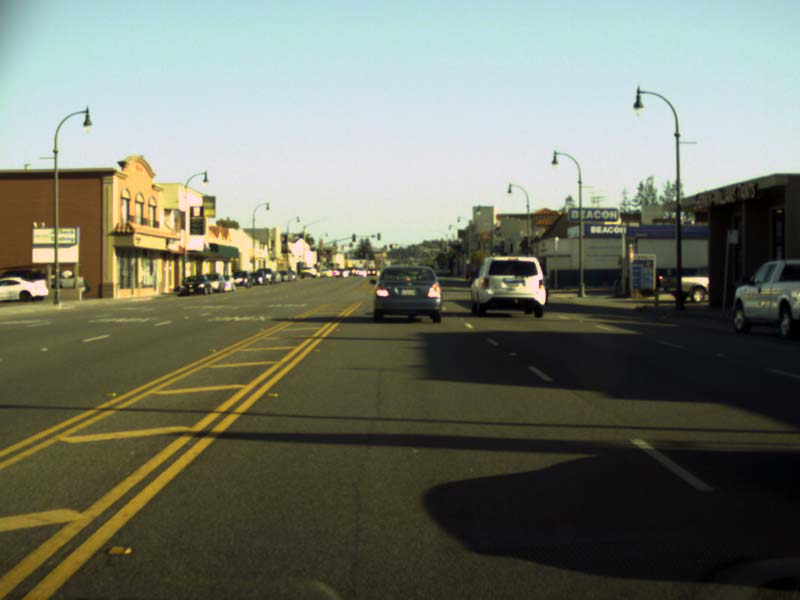Red: (389, 242, 392, 247)
